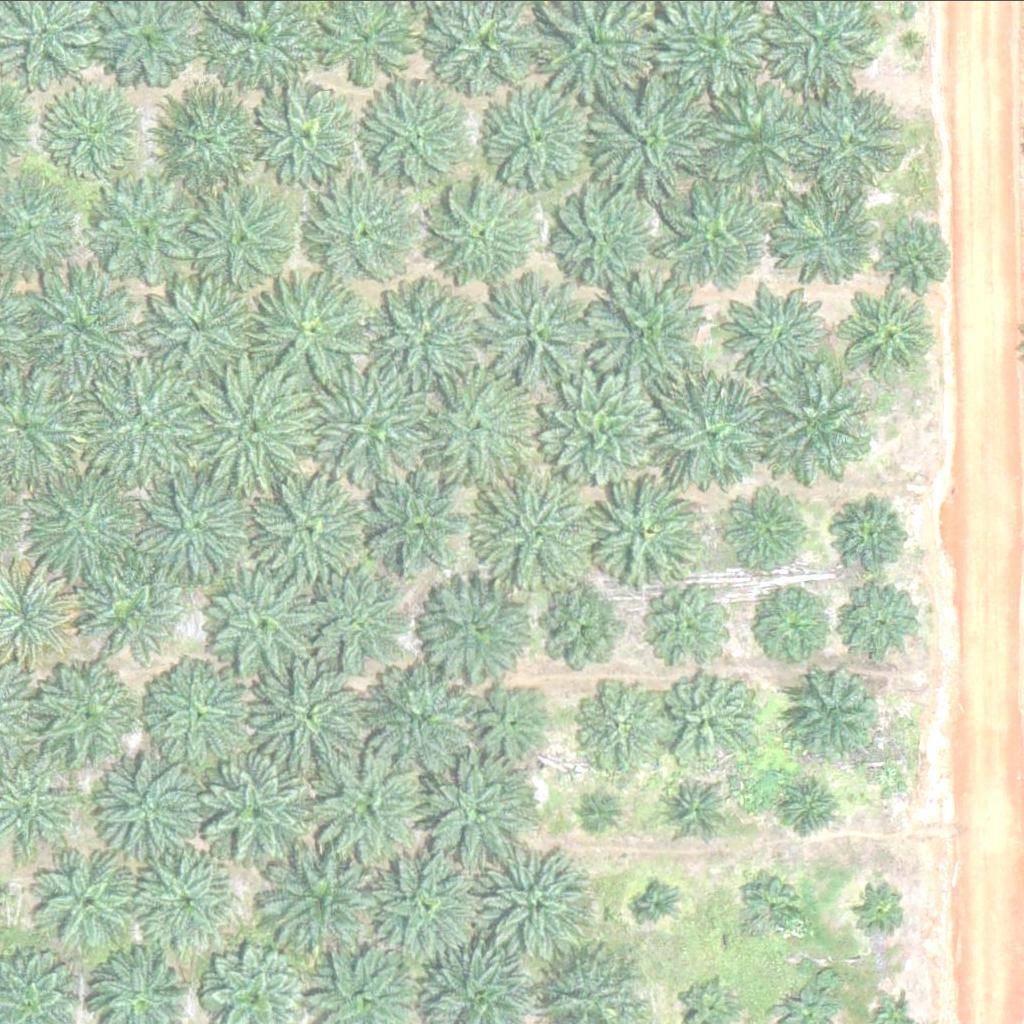Kelapa_Sawit: (260, 832, 386, 957), (84, 359, 210, 484), (187, 365, 312, 490), (368, 849, 482, 962), (800, 83, 913, 196), (697, 81, 810, 194), (585, 77, 698, 190), (306, 178, 419, 291), (651, 179, 764, 292), (256, 269, 369, 382), (361, 279, 474, 392), (479, 282, 592, 395), (753, 369, 866, 482), (585, 479, 698, 592), (425, 576, 538, 689), (253, 658, 366, 771), (354, 672, 467, 785), (477, 851, 590, 964), (183, 183, 296, 296), (142, 269, 255, 382), (23, 267, 136, 380), (205, 561, 318, 674), (30, 660, 143, 773), (414, 759, 528, 871), (148, 84, 262, 196), (84, 178, 198, 290), (469, 77, 582, 189), (356, 81, 469, 193), (583, 274, 696, 386), (729, 278, 842, 390), (310, 371, 423, 483), (419, 373, 532, 485), (538, 375, 651, 487), (653, 379, 766, 491), (475, 477, 588, 589), (312, 748, 425, 860), (25, 472, 138, 584), (136, 472, 249, 584), (248, 473, 361, 585), (202, 753, 315, 865), (425, 178, 526, 278), (549, 187, 650, 287), (771, 186, 872, 286), (372, 475, 473, 575), (784, 666, 885, 766), (150, 663, 251, 763), (95, 756, 196, 856), (44, 848, 145, 948), (255, 84, 355, 184), (46, 81, 146, 181), (137, 847, 237, 947), (841, 294, 929, 382), (575, 683, 663, 771), (669, 675, 757, 763), (87, 566, 176, 653), (722, 490, 810, 577), (319, 579, 407, 666), (545, 588, 621, 663), (838, 494, 914, 569), (660, 586, 736, 661), (842, 583, 918, 658), (478, 690, 554, 765), (765, 598, 828, 661), (783, 774, 846, 837), (738, 879, 801, 942), (882, 224, 945, 287), (860, 886, 911, 936), (668, 784, 718, 834), (579, 788, 617, 826), (641, 884, 679, 921)
